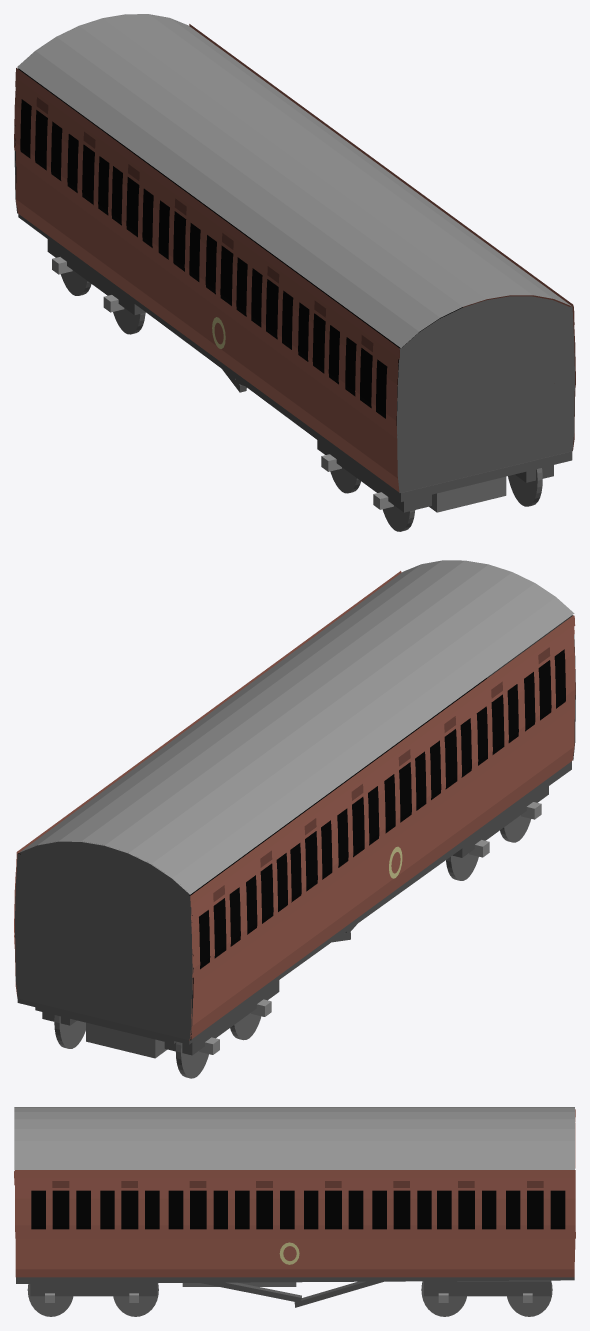
The model's file is lbscr-sub-bogie-48ft.dae.
The picture shows the model from 3 angles, top to bottom: view 1: azimuth 30°, elevation 25°; view 2: azimuth 150°, elevation 25°; view 3: azimuth 270°, elevation 25°; orthographic projection. The views are drawn at different scales.
Visible parts, largest first — view 1: Tube, Plane_030, Plane_051, Plane_081, Cylinder_013, Plane_054, Plane_002, Plane, Plane_029, Plane_032, Cube_010, Plane_006 (+13 smaller); view 2: Tube, Plane_001, Plane_030, Plane_081, Plane, Cylinder_012, Plane_029, Plane_032, Plane_002, Cube_076, Cube_075, Plane_006 (+12 smaller); view 3: Tube, Plane_007, Plane_010, Plane_006, Plane_005, Plane_004, Plane_002, Cube_009, Cube_008, Cube_002, Plane_011, Plane_019 (+28 smaller).
Part boxes in pixels (left/top/right/bottom): Tube: left=17, top=14, right=570, bottom=347; Plane_030: left=15, top=160, right=399, bottom=492; Plane_051: left=397, top=378, right=574, bottom=492; Plane_081: left=14, top=87, right=398, bottom=429; Cylinder_013: left=400, top=296, right=570, bottom=396; Plane_054: left=411, top=320, right=559, bottom=417; Plane_002: left=18, top=214, right=572, bottom=501; Plane: left=15, top=68, right=399, bottom=359; Plane_029: left=16, top=152, right=397, bottom=438; Plane_032: left=15, top=78, right=398, bottom=366; Cube_010: left=429, top=476, right=506, bottom=512; Plane_006: left=189, top=24, right=574, bottom=315; Tube: left=19, top=560, right=574, bottom=894; Plane_001: left=15, top=853, right=193, bottom=1040; Plane_030: left=189, top=707, right=574, bottom=1040; Plane_081: left=191, top=635, right=575, bottom=977; Plane: left=190, top=615, right=575, bottom=906; Cylinder_012: left=20, top=841, right=189, bottom=895; Plane_029: left=192, top=698, right=575, bottom=986; Plane_032: left=191, top=625, right=574, bottom=913; Plane_002: left=17, top=761, right=571, bottom=1044; Cube_076: left=86, top=1022, right=167, bottom=1058; Cube_075: left=164, top=980, right=279, bottom=1055; Plane_006: left=16, top=571, right=401, bottom=862; Tube: left=14, top=1107, right=574, bottom=1170; Plane_007: left=15, top=1238, right=575, bottom=1277; Plane_010: left=15, top=1185, right=575, bottom=1231; Plane_006: left=14, top=1170, right=575, bottom=1178; Plane_005: left=15, top=1232, right=575, bottom=1238; Plane_004: left=14, top=1178, right=575, bottom=1185; Plane_002: left=16, top=1277, right=574, bottom=1283; Cube_009: left=424, top=1280, right=550, bottom=1296; Cube_008: left=30, top=1283, right=157, bottom=1296; Cube_002: left=199, top=1282, right=301, bottom=1302; Plane_011: left=121, top=1190, right=138, bottom=1229; Plane_019: left=393, top=1190, right=410, bottom=1229.
Bounding box in the file's own units: 2.07 × 7.71 × 2.64.
